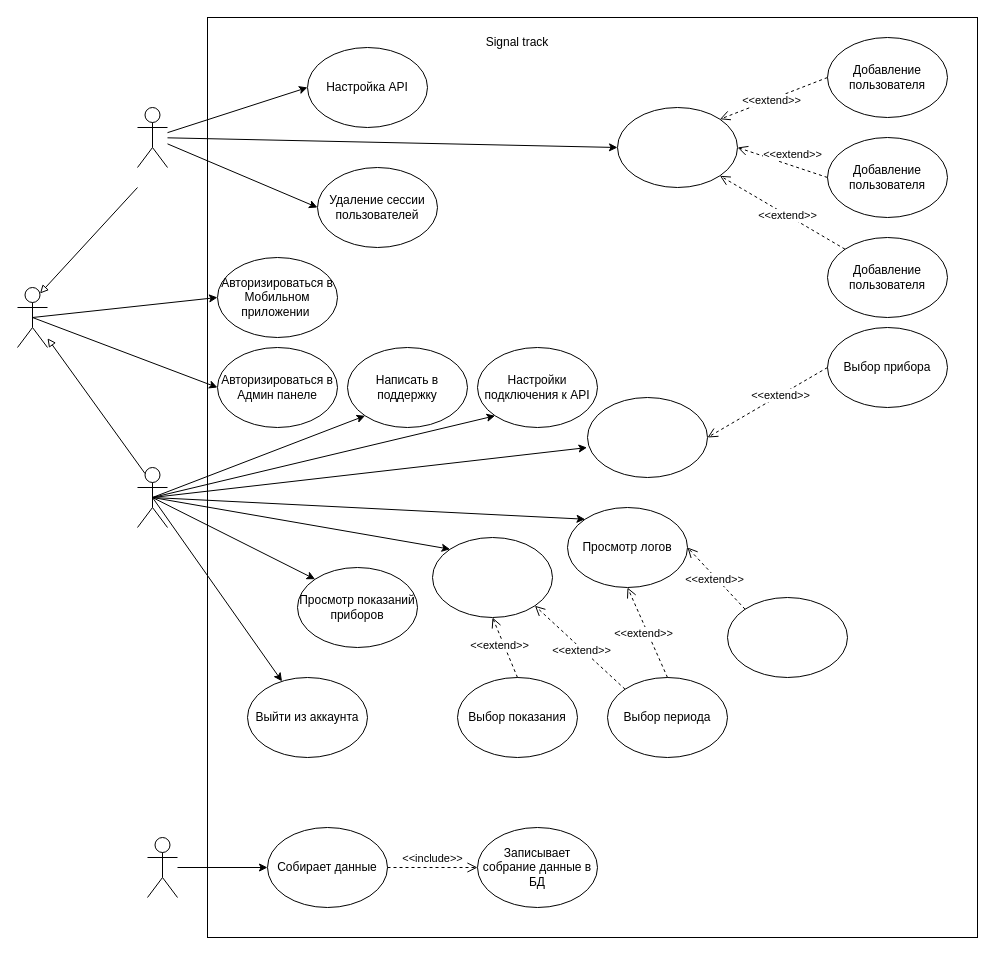
Image size: 995x955. Some labels were removed from this diagram. Each missing label, with the centre of its shape:
Администратор: the point at 152,137
Гость: the point at 32,317
Инженер: the point at 152,497
Просмотр графика: the point at 492,577
Просмотр списка пользователей: the point at 677,147
Просмотр списка приборов: the point at 647,437
Расширенный выбор показания: the point at 787,637
Система: the point at 162,867
